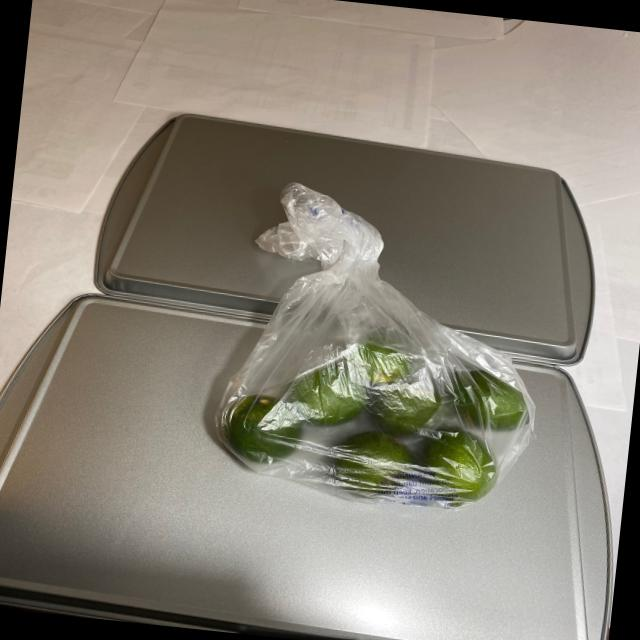lemon: (214, 324, 536, 510)
